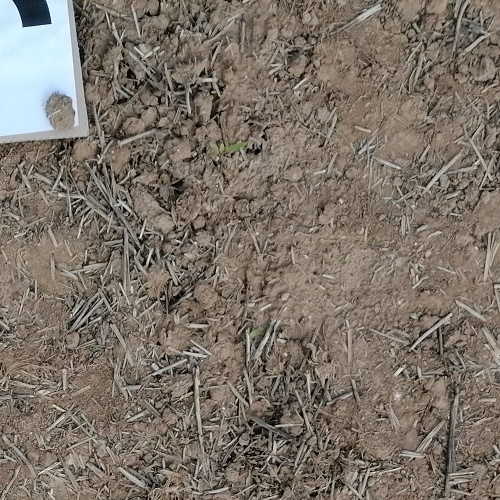beet: (216, 141, 246, 153)
